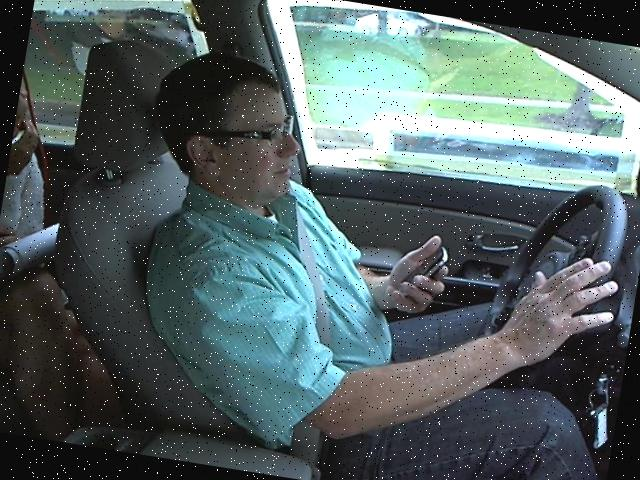c1 - Texting: (102, 43, 639, 472)
